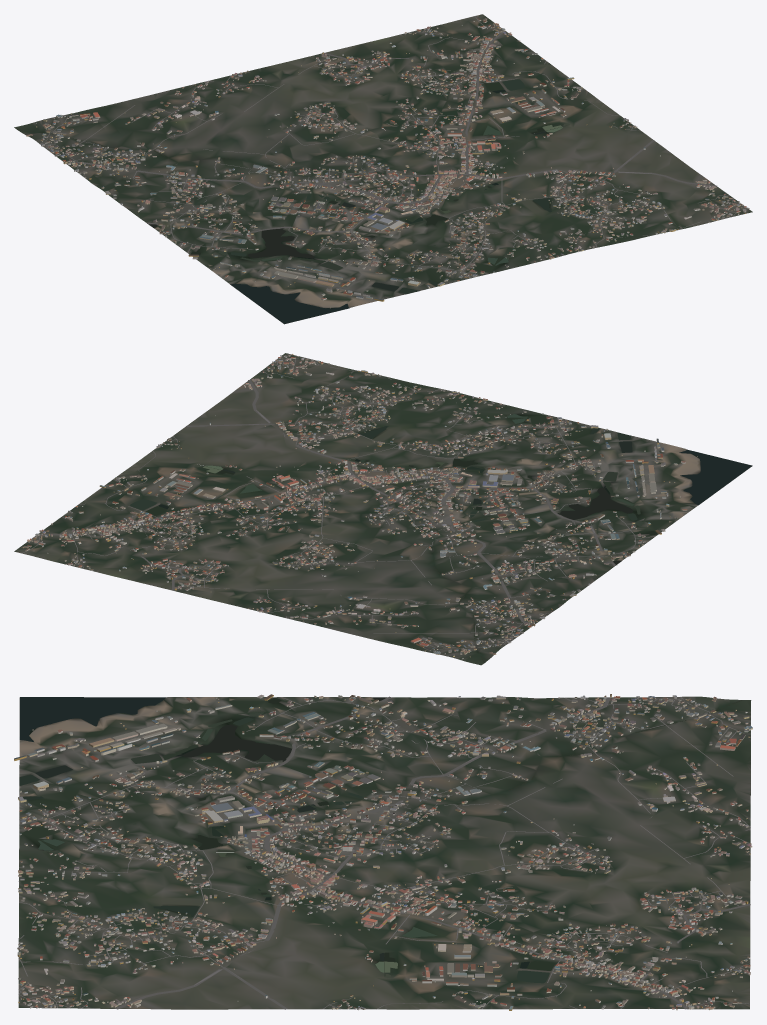
3 views of the same model, one above another, from view 1: azimuth 30°, elevation 25°; view 2: azimuth 150°, elevation 25°; view 3: azimuth 270°, elevation 25° (orthographic). The views are drawn at different scales.
Visible parts, largest first — view 1: ground, buildings, roads, water; view 2: ground, buildings, roads, water; view 3: ground, buildings, roads, water.
Part boxes in pixels (x1,y1,x2,y2): ground: (14, 14, 752, 324); buildings: (26, 17, 749, 308); roads: (40, 16, 744, 277); water: (18, 79, 569, 323); ground: (14, 353, 752, 665); buildings: (21, 354, 697, 658); roads: (22, 358, 655, 650); water: (130, 414, 752, 662); ground: (18, 696, 751, 1009); buildings: (14, 694, 752, 1010); roads: (18, 696, 750, 1009); water: (19, 697, 742, 983).
Bounding box in the file's own units: 2830 × 38.21 × 2833.
